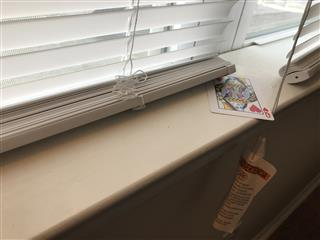QueenOfHearts: (207, 72, 275, 121)
